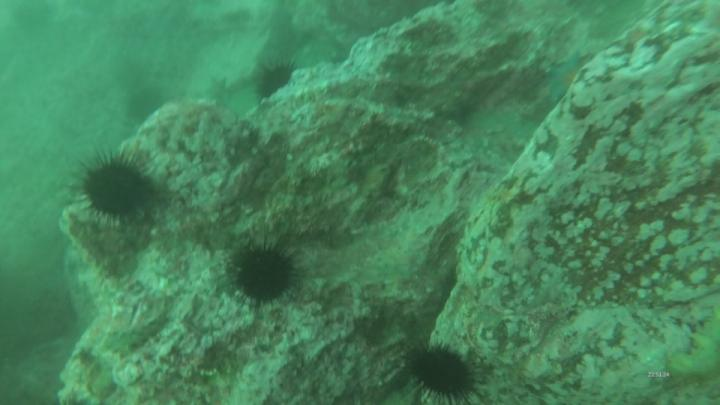echinus: (66, 149, 163, 230), (222, 234, 306, 312), (397, 336, 486, 405), (250, 60, 297, 107)
starfish: (546, 52, 584, 104)
